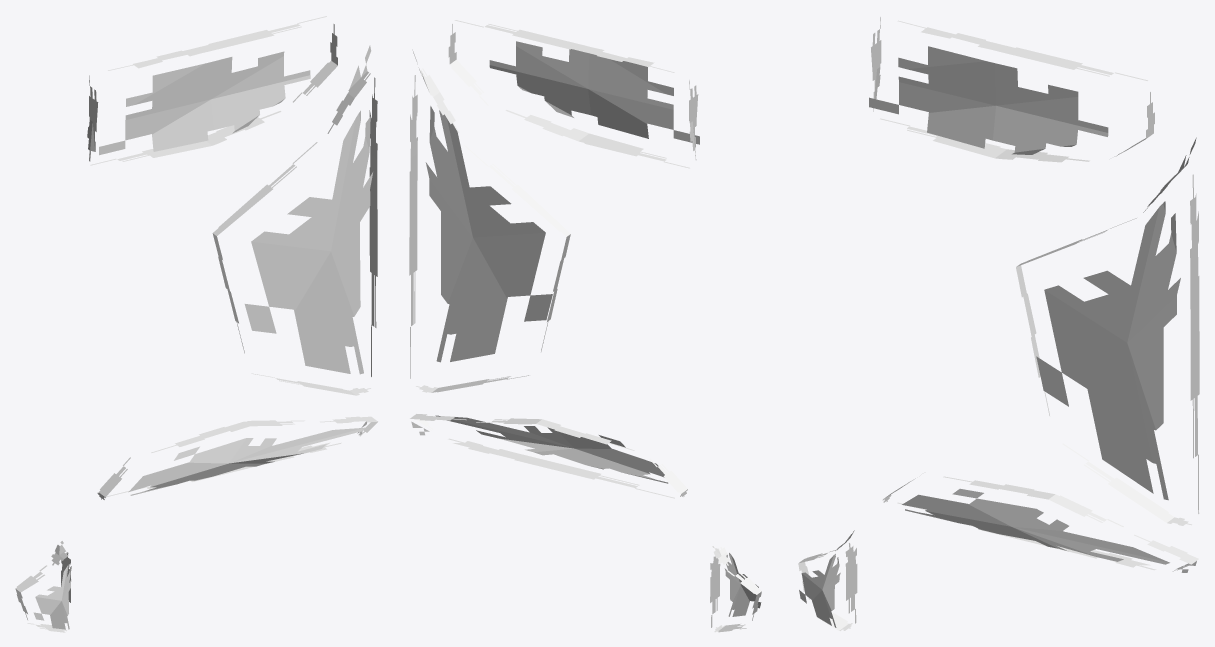
Rendered from snowmoundsforhotel_wtf.obj.
3 views of the same model, side by side, from view 1: azimuth 30°, elevation 25°; view 2: azimuth 150°, elevation 25°; view 3: azimuth 330°, elevation 25° (orthographic). The views are drawn at different scales.
Parts seen in each view (by area): view 1: group4, group5, group3, group2; view 2: group4, group5, group3, group2; view 3: group4, group5, group3, group2.
Boxes of the visible parts, box(x1,y1,x2,y2) form: group4: box(212, 45, 377, 395); group5: box(87, 16, 337, 165); group3: box(97, 416, 377, 499); group2: box(15, 541, 71, 632); group4: box(409, 49, 570, 392); group5: box(448, 20, 699, 168); group3: box(410, 414, 687, 498); group2: box(710, 546, 761, 632); group4: box(1016, 137, 1199, 525); group5: box(869, 17, 1154, 162); group3: box(882, 476, 1198, 572); group2: box(798, 530, 857, 630).
Size of the model in its own units: 445 by 660 by 40.66.
